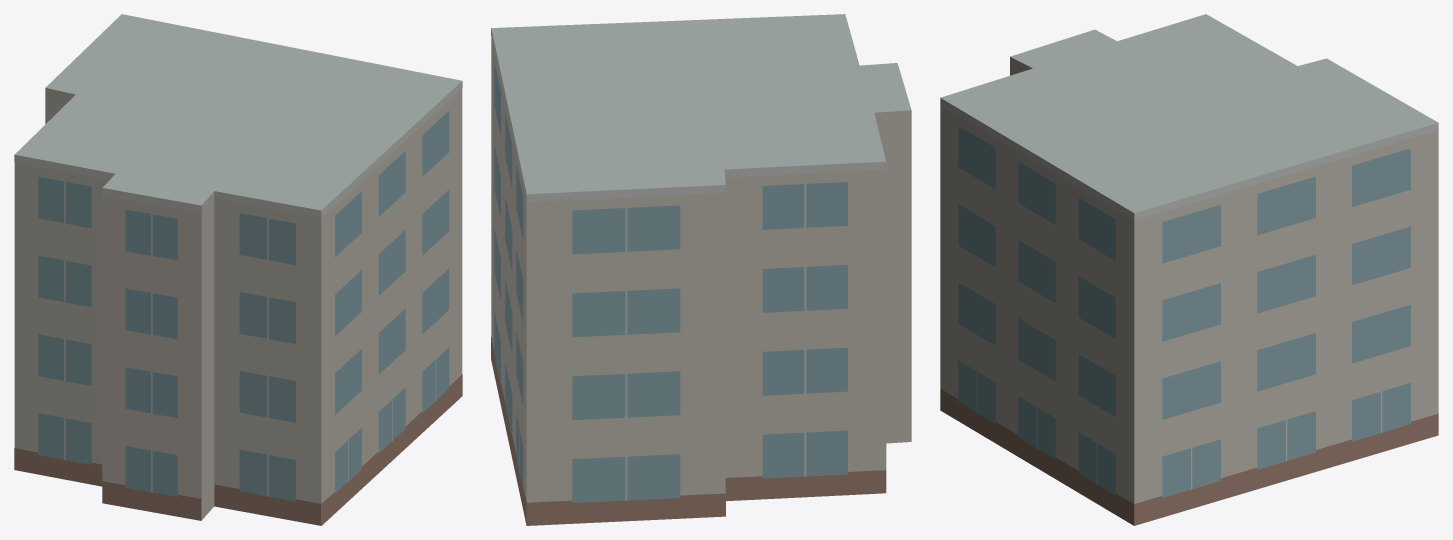
Rendered from survey-upis-32574684.glb.
3 renders of one model, left to right at view 1: azimuth 30°, elevation 25°; view 2: azimuth 150°, elevation 25°; view 3: azimuth 270°, elevation 25°, orthographic. The views are drawn at different scales.
Visible parts, largest first — view 1: survey-upis-32574684.tmp; view 2: survey-upis-32574684.tmp; view 3: survey-upis-32574684.tmp.
Part boxes in pixels (box(x1,y1,x2,y2)): survey-upis-32574684.tmp: box(14, 14, 462, 525); survey-upis-32574684.tmp: box(491, 14, 911, 525); survey-upis-32574684.tmp: box(940, 14, 1438, 525).
Bounding box in the file's own units: 13.81 × 10.1 × 14.6.
